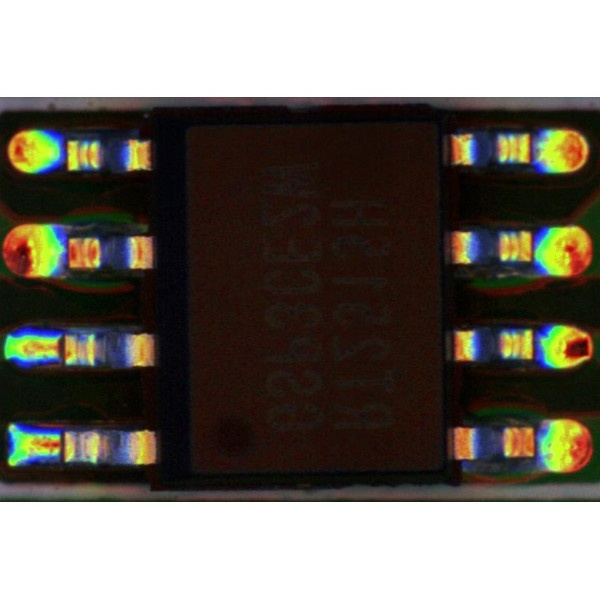Bad_podu: (35, 432, 76, 456), (35, 342, 79, 358)
